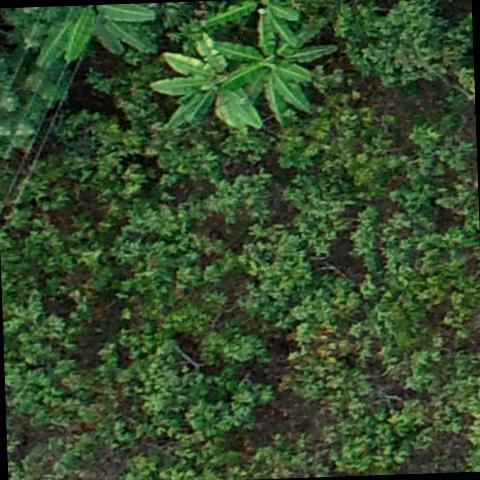Banana-plant: (210, 6, 342, 128), (146, 30, 264, 142)
